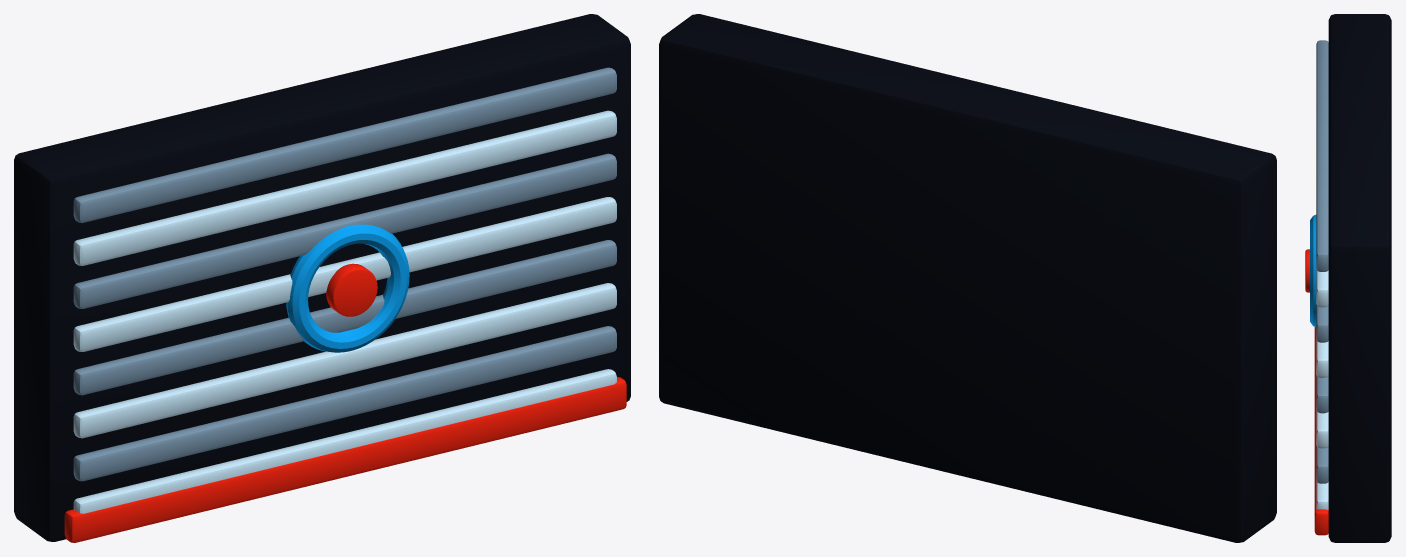
Rendered from timed_shutter_panel.obj.
The picture shows the model from 3 angles, left to right: view 1: azimuth 30°, elevation 25°; view 2: azimuth 150°, elevation 25°; view 3: azimuth 270°, elevation 25°; orthographic projection. The views are drawn at different scales.
Visible parts, largest first — view 1: TimedShutterPanel; view 2: TimedShutterPanel; view 3: TimedShutterPanel.
Part boxes in pixels (box(x1,y1,x2,y2)): TimedShutterPanel: box(14, 14, 630, 542); TimedShutterPanel: box(659, 14, 1276, 542); TimedShutterPanel: box(1305, 14, 1391, 542).
Size of the model in its own units: 3.34 by 2 by 0.52.
Materials: 5 (5 with a texture image).
